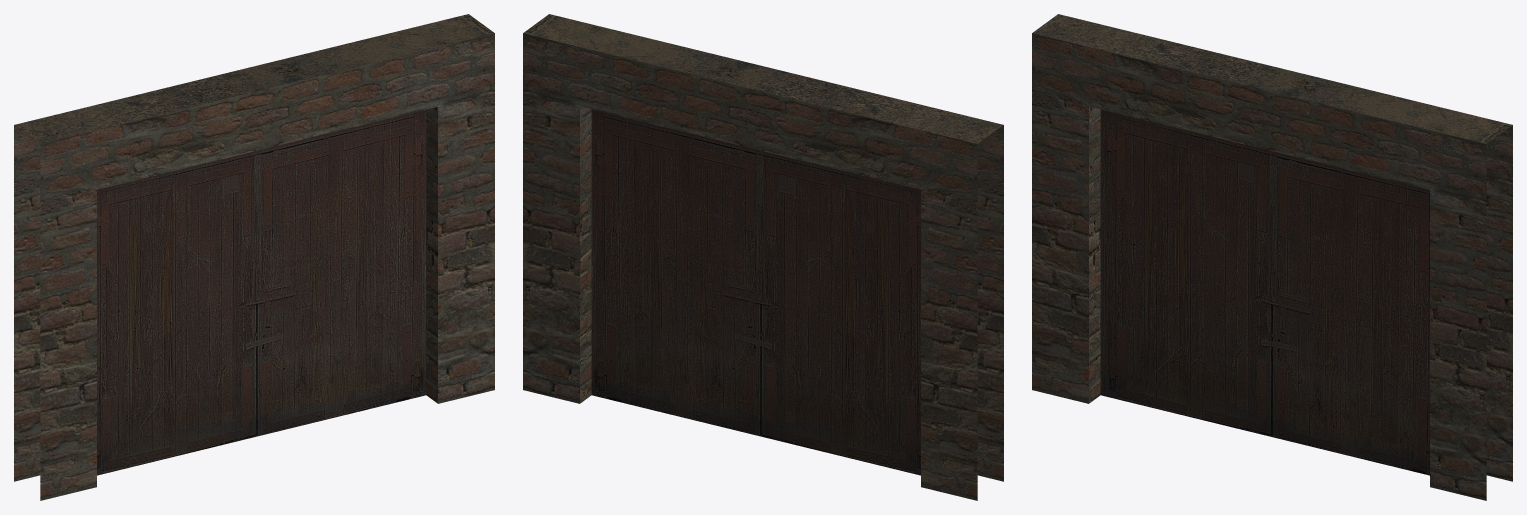
File: garage_door_frame_hr_2.dae
3 views of the same model, side by side, from view 1: azimuth 30°, elevation 25°; view 2: azimuth 150°, elevation 25°; view 3: azimuth 330°, elevation 25° (orthographic).
Visible parts, largest first — view 1: garage_door_hm_5, garage_door_frame_hr_2; view 2: garage_door_hm_5, garage_door_frame_hr_2; view 3: garage_door_hm_5, garage_door_frame_hr_2.
Boxes of the visible parts, bbox=[...] form: garage_door_hm_5: bbox=[97, 109, 426, 475]; garage_door_frame_hr_2: bbox=[14, 14, 494, 500]; garage_door_hm_5: bbox=[591, 109, 920, 475]; garage_door_frame_hr_2: bbox=[523, 14, 1003, 500]; garage_door_hm_5: bbox=[1100, 109, 1429, 475]; garage_door_frame_hr_2: bbox=[1032, 14, 1512, 500].
Bounding box in the file's own units: 4 × 0.4 × 3.
3 materials, 3 textured.
